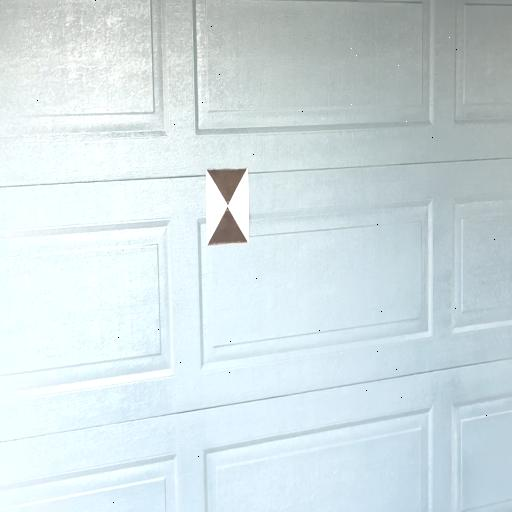target: (206, 170, 249, 242)
